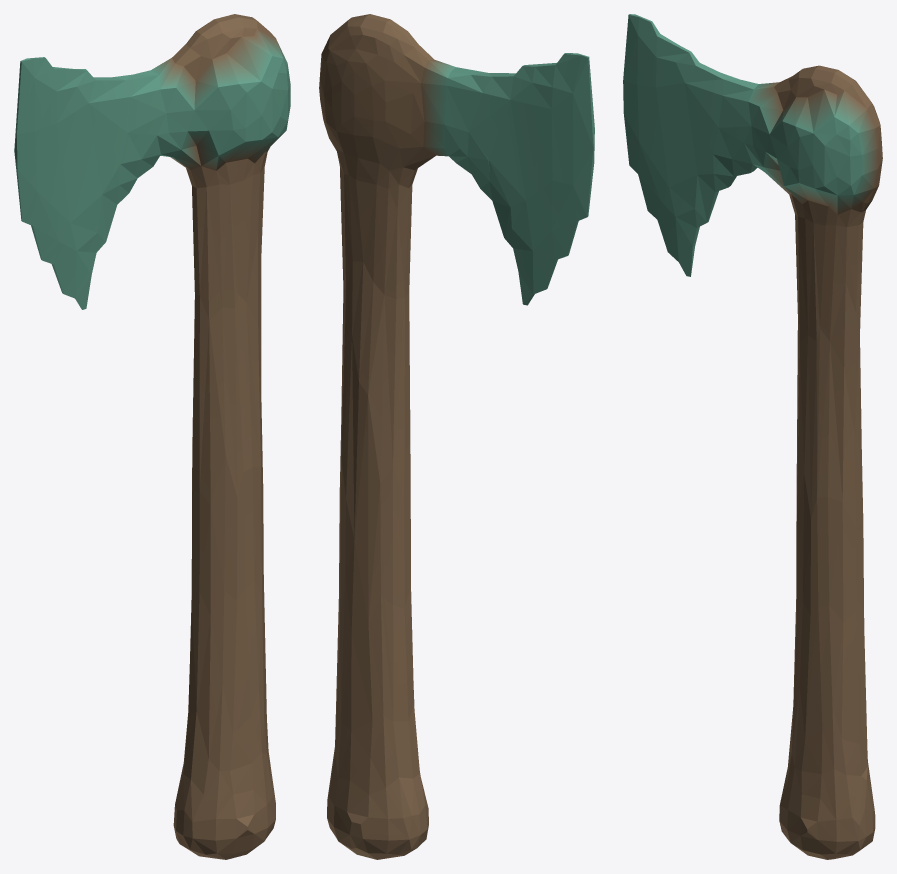
File: axe_jadewrought.glb
3 views of the same model, side by side, from view 1: azimuth 30°, elevation 25°; view 2: azimuth 150°, elevation 25°; view 3: azimuth 330°, elevation 25° (orthographic). The views are drawn at different scales.
Parts seen in each view (by area): view 1: world; view 2: world; view 3: world.
Boxes of the visible parts, x1,y1,x2,y2 form: world: [14, 14, 290, 859]; world: [319, 14, 594, 859]; world: [623, 14, 882, 859].
Size of the model in its own units: 0.335 by 1 by 0.1024.
